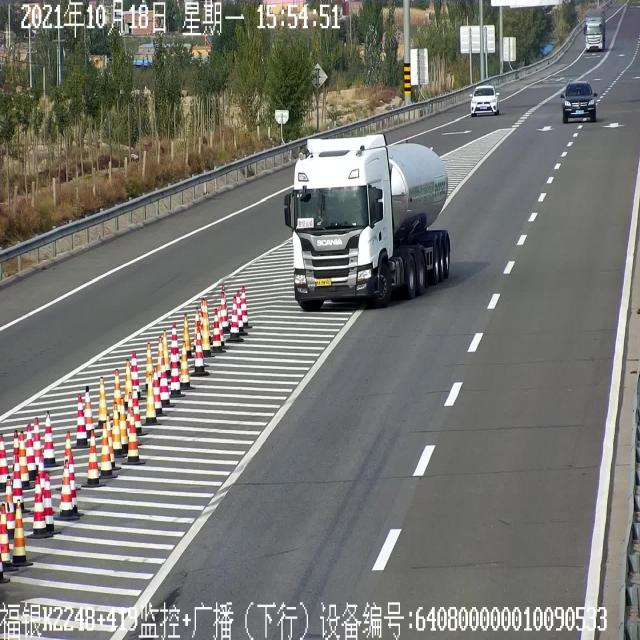point: (578, 0, 626, 56)
